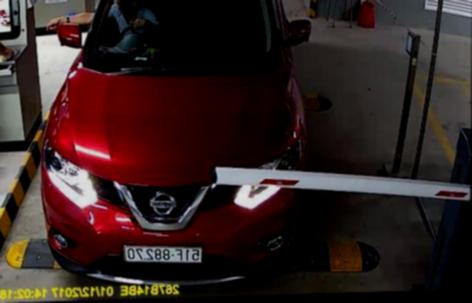License_Plate: (122, 239, 206, 268)
